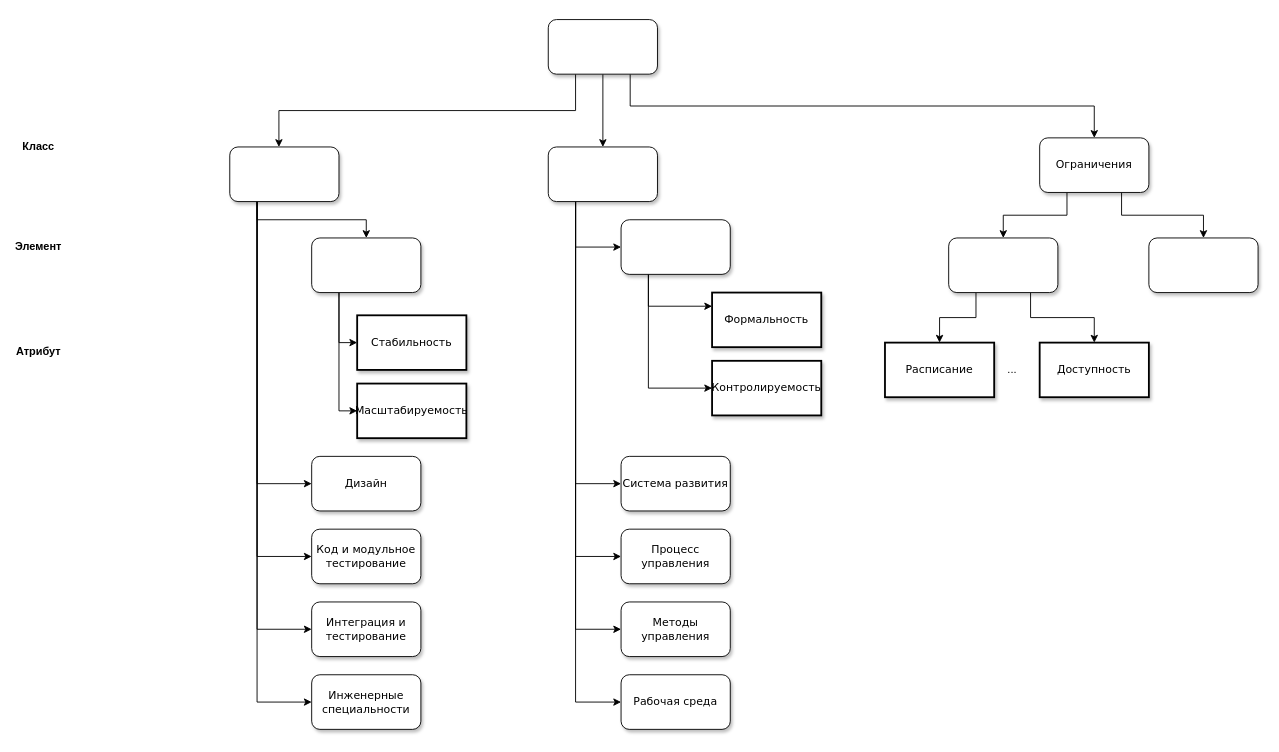
Image size: 1279x752. Some labels were removed from this diagram. Each missing label, with the centre of its shape:
Окружение: pixel 603 175
Программное обеспечение: pixel 1204 266
Процесс разработки: pixel 676 248
Разработка: pixel 284 175
Ресурсы: pixel 1003 266
Риски: pixel 603 48
Требования: pixel 366 266
